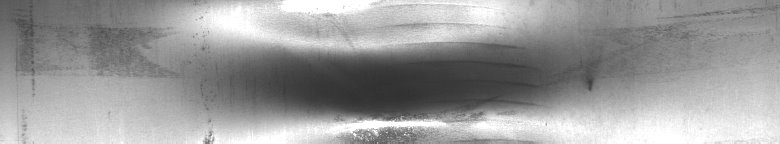ke: (304, 14, 524, 136)
